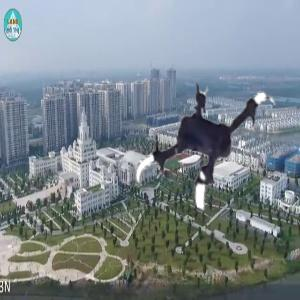drone: (127, 71, 291, 235)
